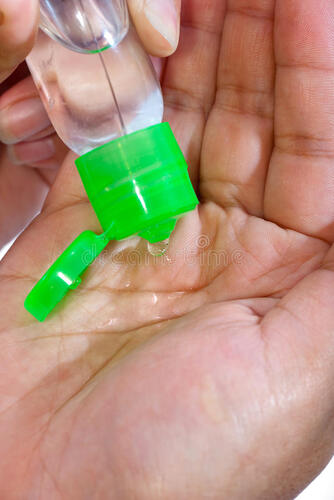sanitizer: (18, 1, 196, 314)
